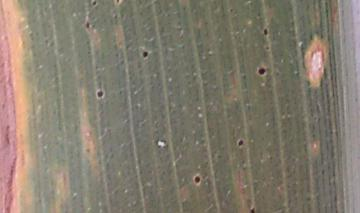tarspot: (255, 63, 268, 80), (258, 24, 272, 36), (191, 173, 203, 186), (140, 47, 150, 61), (95, 87, 105, 100), (235, 137, 246, 147), (247, 204, 259, 213), (83, 20, 92, 31), (89, 1, 100, 7), (226, 5, 234, 13), (262, 44, 271, 51), (114, 1, 123, 6)
